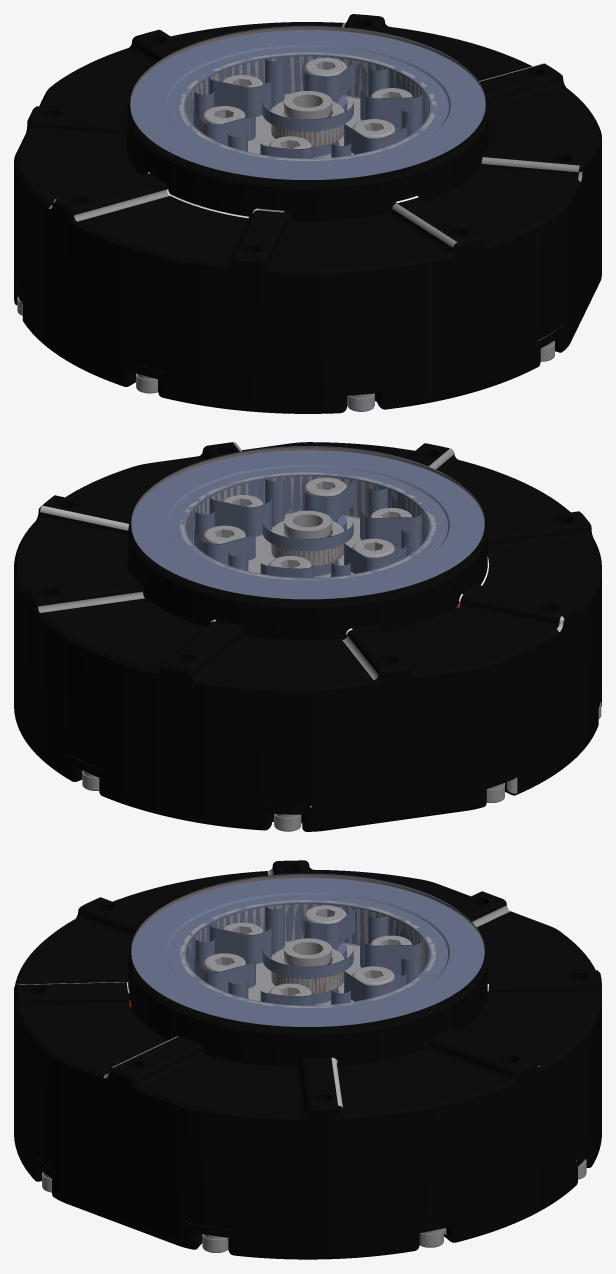
File: unitree-go-m8010-6.glb
3 renders of one model, top to bottom at view 1: azimuth 30°, elevation 25°; view 2: azimuth 150°, elevation 25°; view 3: azimuth 270°, elevation 25°, orthographic.
Parts seen in each view (by area): view 1: unitree-go-m8010-6; view 2: unitree-go-m8010-6; view 3: unitree-go-m8010-6.
Boxes of the visible parts, x1,y1,x2,y2 form: unitree-go-m8010-6: (14,14,601,413); unitree-go-m8010-6: (14,442,601,831); unitree-go-m8010-6: (14,860,601,1259).
Size of the model in its own units: 96.5 by 42.3 by 96.5.
